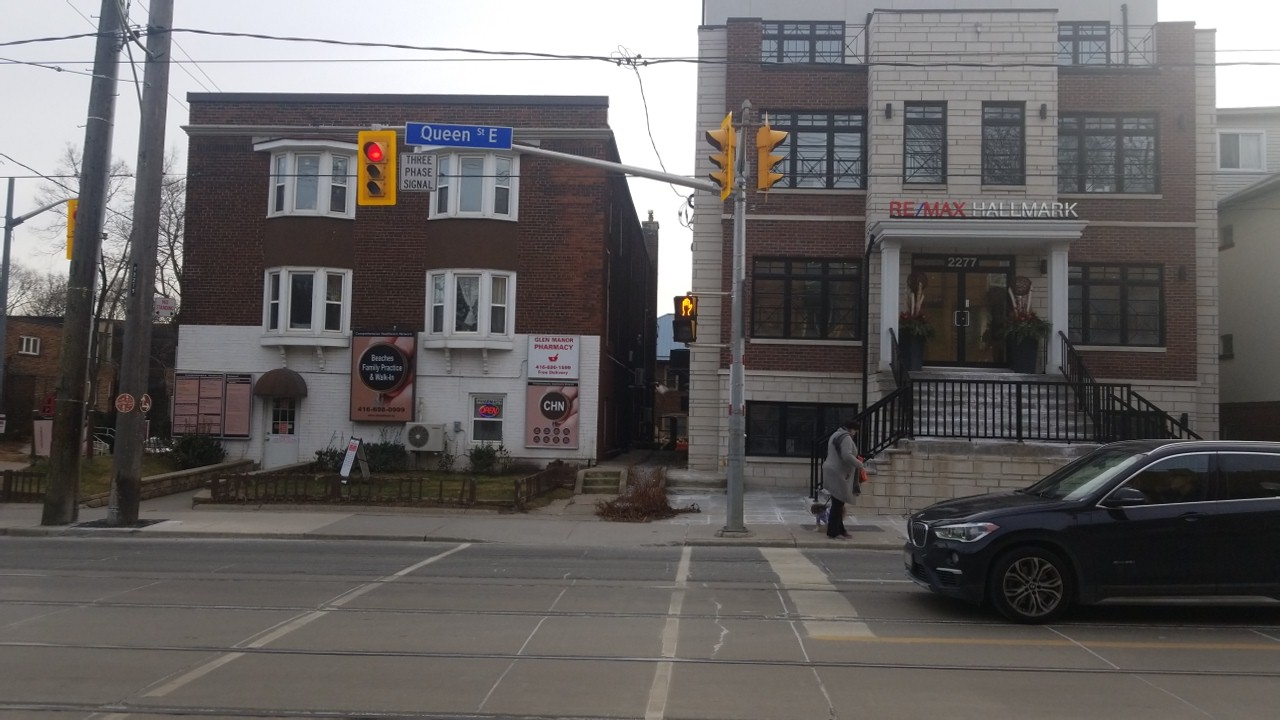light: (671, 293, 698, 342)
